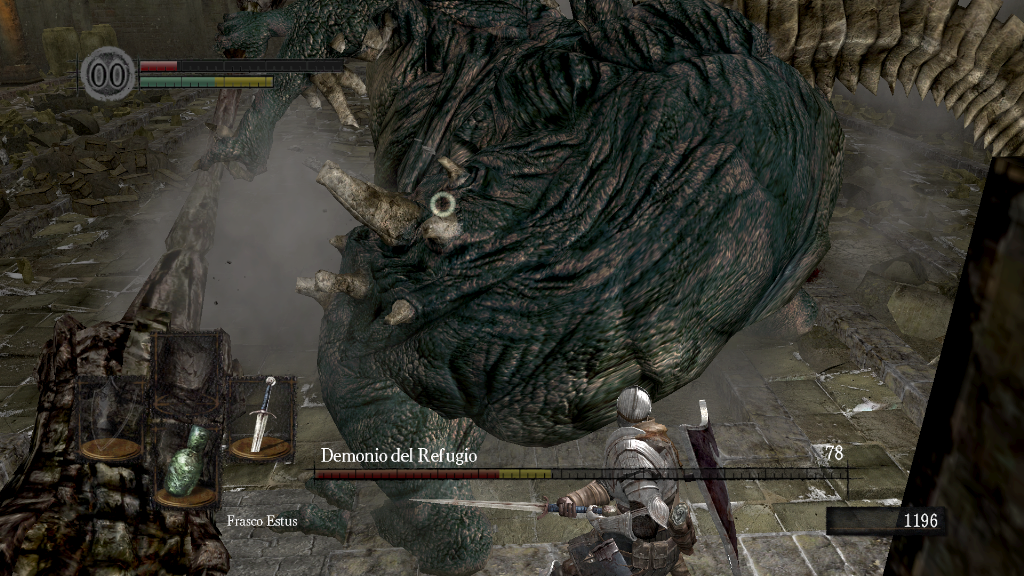asylumDemon: (1, 1, 1023, 576)
bossHP: (314, 469, 847, 479)
health: (138, 58, 343, 71)
humanity: (80, 45, 136, 102)
player: (414, 383, 745, 576)
souls: (825, 506, 945, 536)
stamina: (138, 74, 274, 88)
